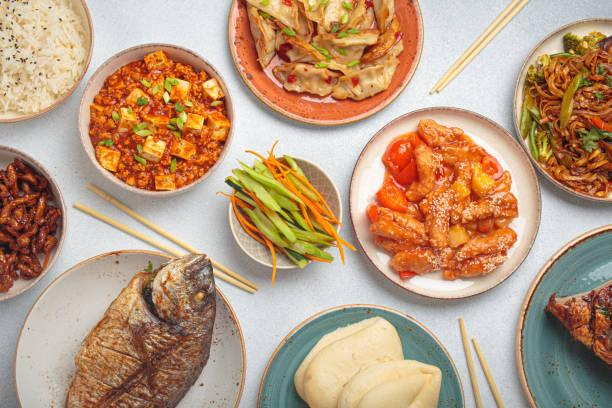Braised Crucian Carp: (347, 107, 538, 300), (12, 250, 241, 407), (230, 0, 421, 128), (77, 43, 231, 198), (226, 156, 340, 271)
